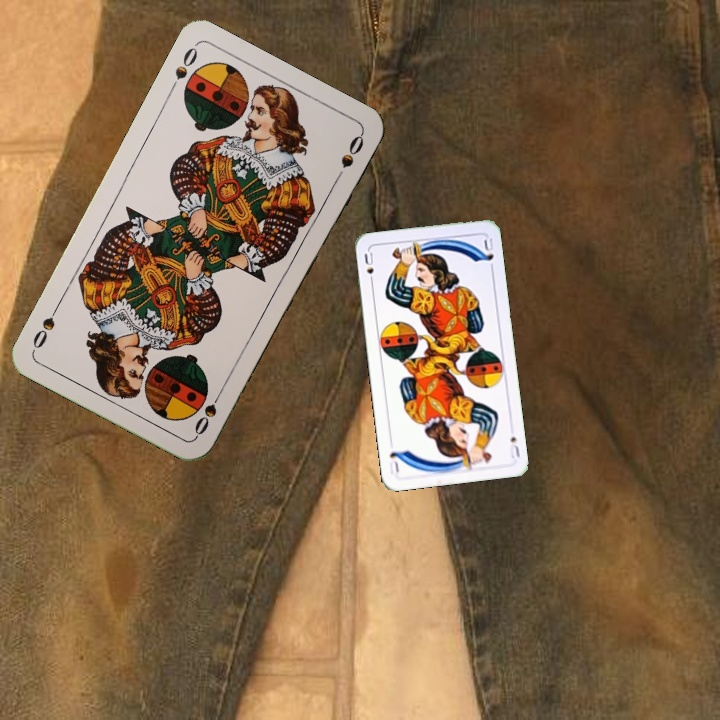SO: (190, 384, 226, 439), (164, 43, 201, 96)
SU: (360, 248, 377, 288), (506, 432, 522, 461)
